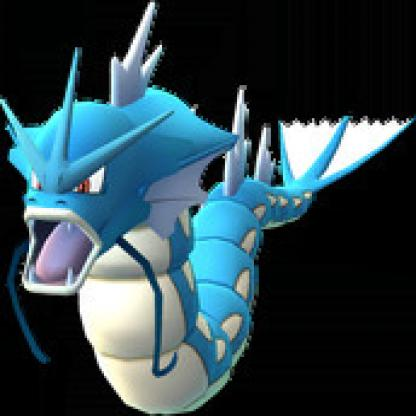Gyarados: (1, 27, 415, 415)
